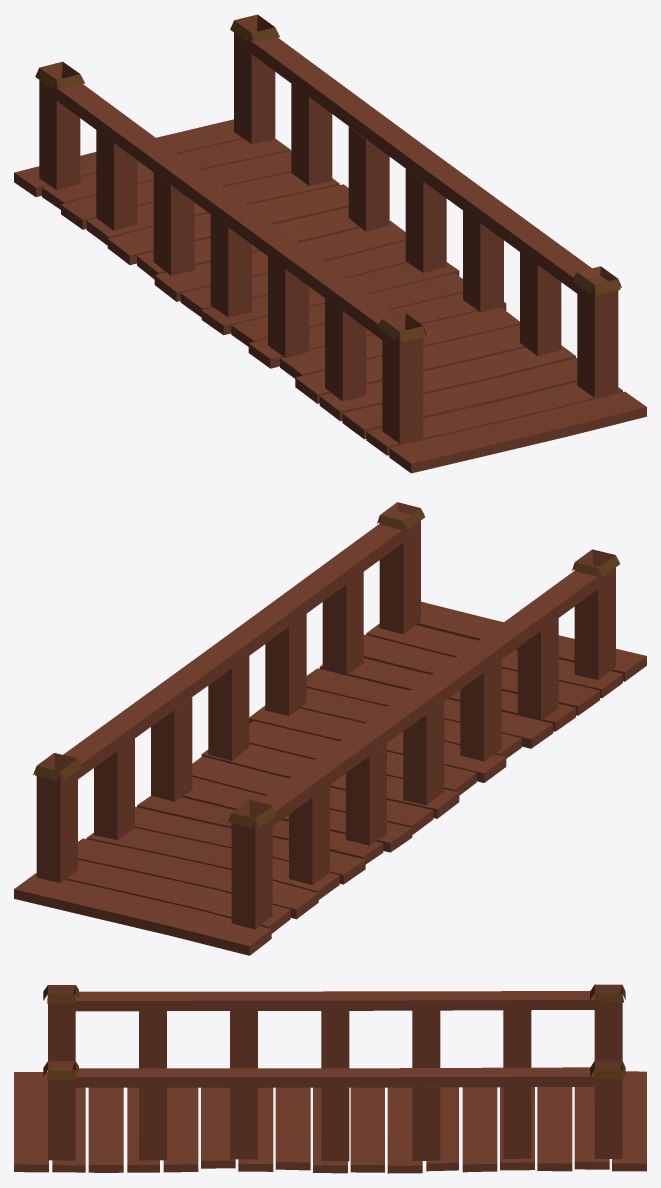
The model's file is Bridge01.fbx.
The picture shows the model from 3 angles, top to bottom: view 1: azimuth 30°, elevation 25°; view 2: azimuth 150°, elevation 25°; view 3: azimuth 270°, elevation 25°; orthographic projection. The views are drawn at different scales.
Visible parts, largest first — view 1: Plane.012; view 2: Plane.012; view 3: Plane.012.
Part boxes in pixels (x1,y1,x2,y2): Plane.012: (14, 14, 646, 473); Plane.012: (14, 502, 646, 955); Plane.012: (14, 984, 646, 1173).
Bounding box in the file's own units: 200 × 104 × 584.
